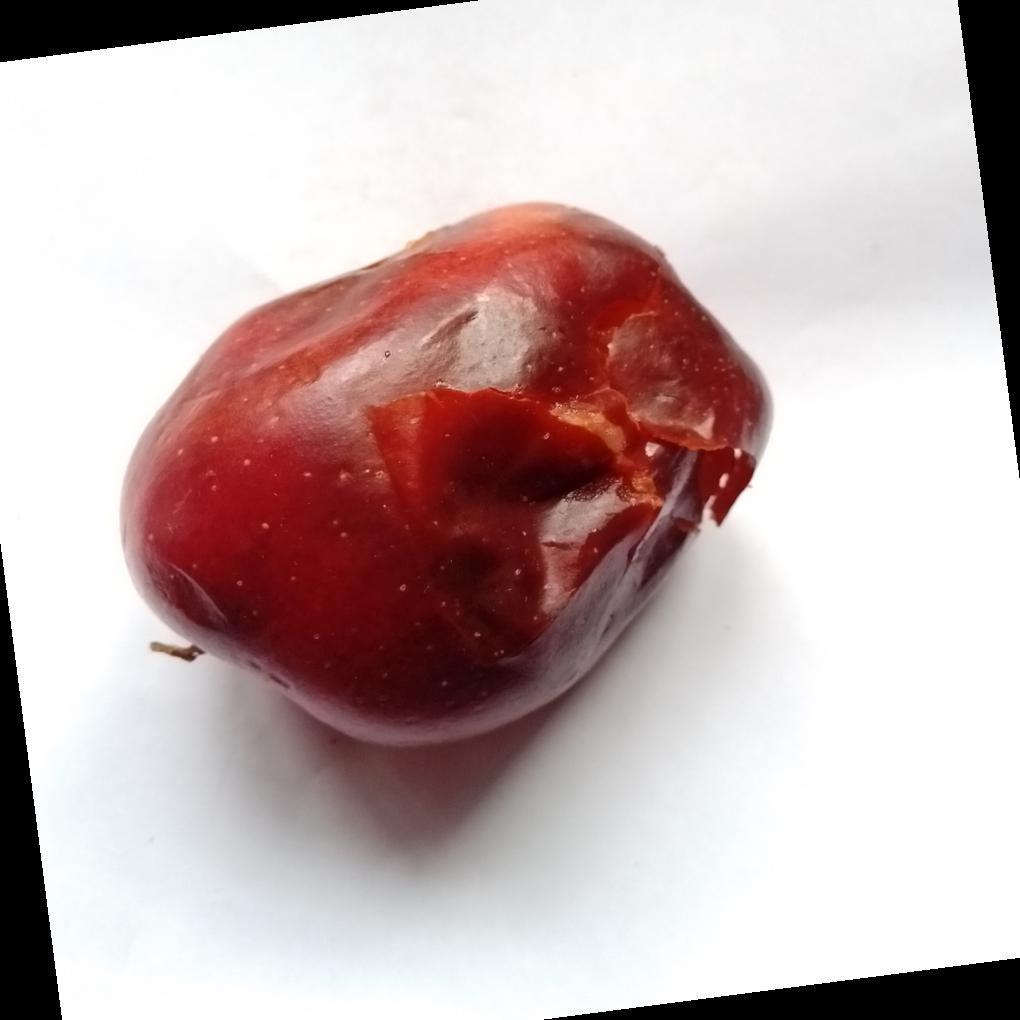FreshOrange: (118, 202, 772, 754)
